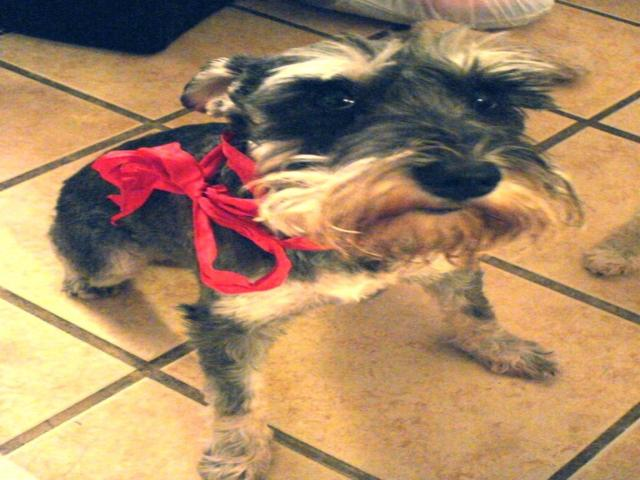Dog: (43, 18, 593, 479), (577, 206, 639, 278)
